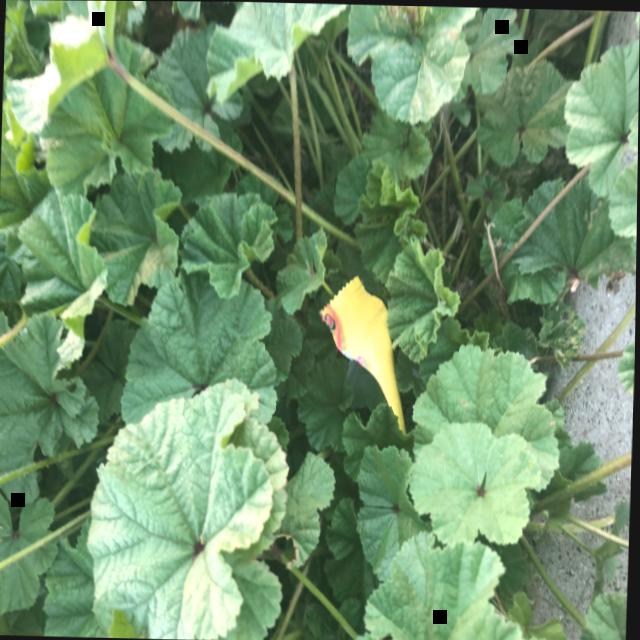Other plastic: (322, 272, 407, 439)
